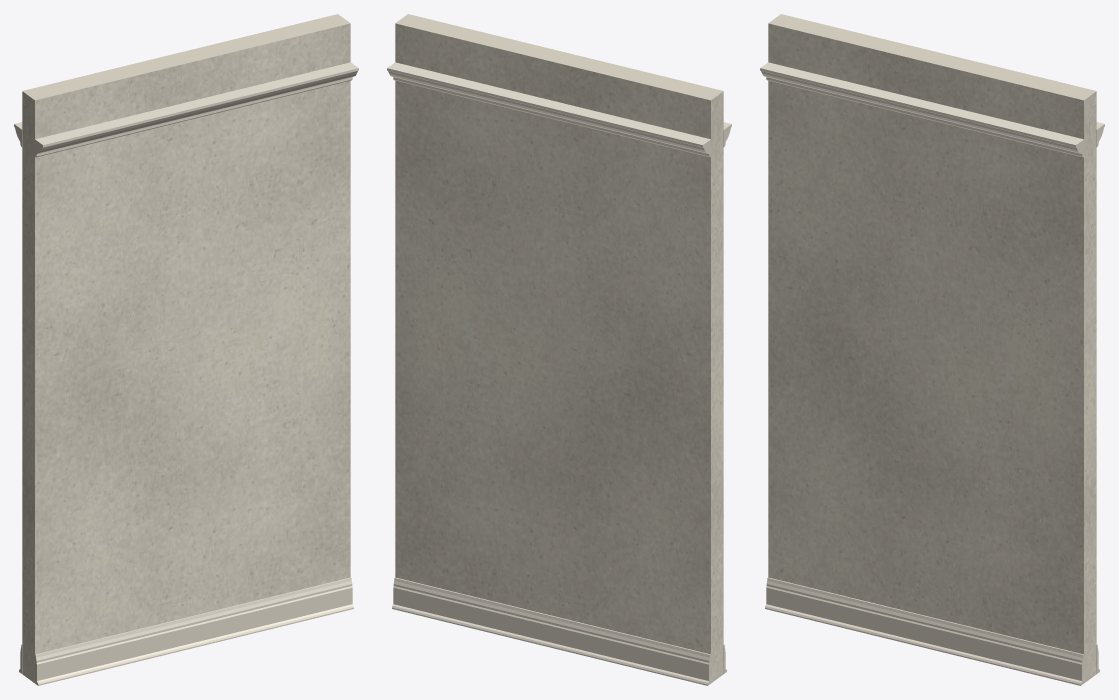
File: interior_wall_end_ground.glb
The picture shows the model from 3 angles, left to right: view 1: azimuth 30°, elevation 25°; view 2: azimuth 150°, elevation 25°; view 3: azimuth 330°, elevation 25°; orthographic projection.
Parts seen in each view (by area): view 1: interior_wall_end_ground_plaster, molduras; view 2: interior_wall_end_ground_plaster, molduras; view 3: interior_wall_end_ground_plaster, molduras.
Part boxes in pixels (x1,y1,x2,y2): interior_wall_end_ground_plaster: (22, 14, 350, 683); molduras: (14, 62, 358, 685); interior_wall_end_ground_plaster: (395, 14, 723, 683); molduras: (387, 62, 731, 685); interior_wall_end_ground_plaster: (768, 14, 1096, 683); molduras: (760, 62, 1104, 685).
Bounding box in the file's own units: 1.7 × 3 × 0.27.
2 materials, 1 textured.
